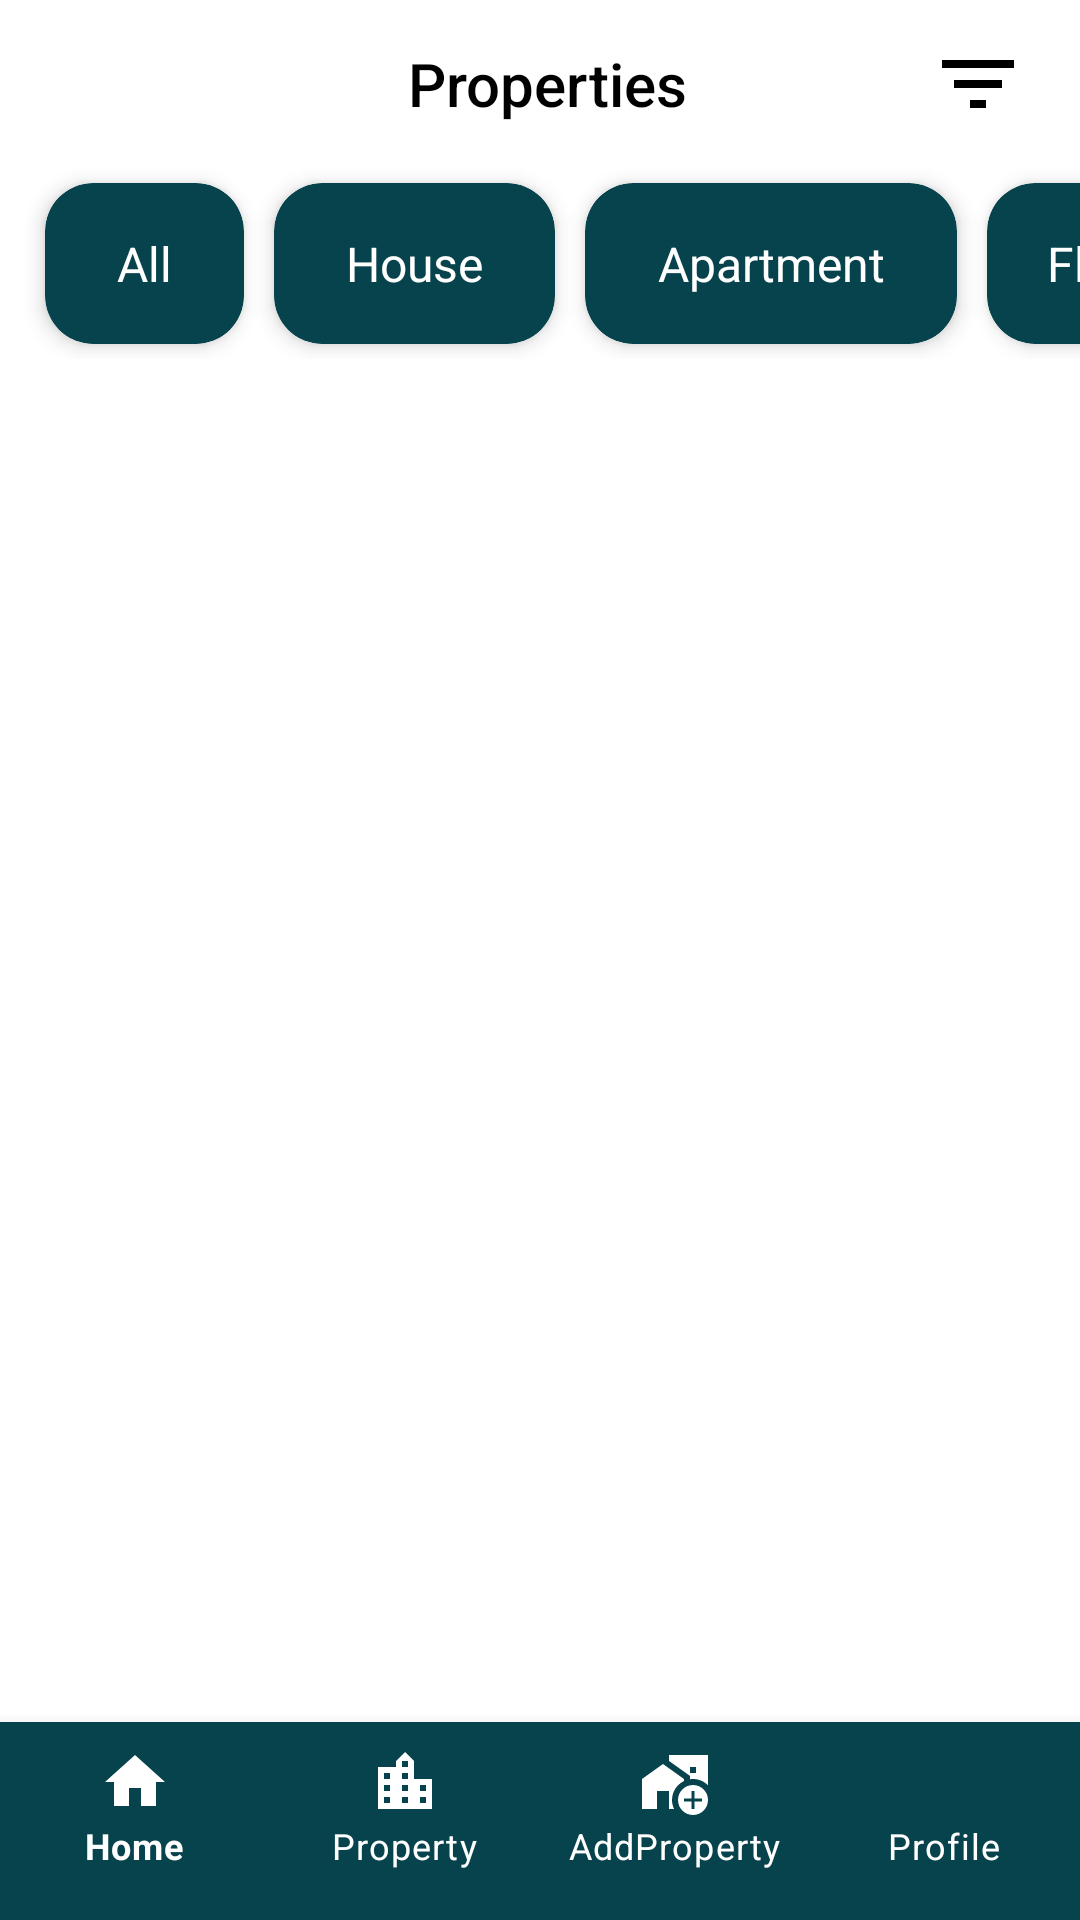

Icons on this 1080*1920 Android screen, each with its box as bbox=(x1, y1, x2, y2):
Filter Icon: bbox=(942, 60, 1014, 108)
